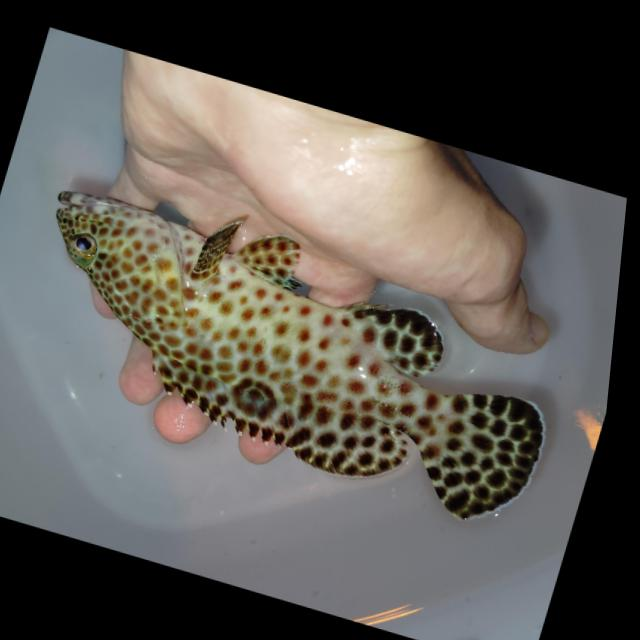Groupers: (0, 161, 589, 543)
